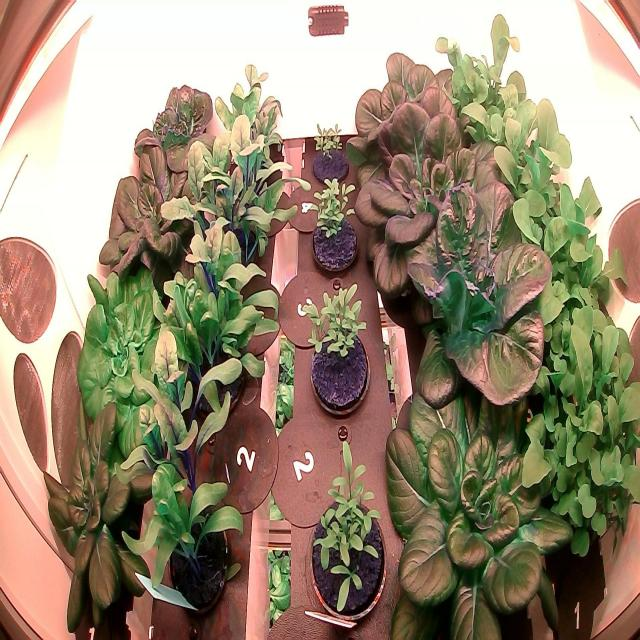Ready: (377, 353, 589, 640), (366, 161, 566, 426), (351, 94, 518, 309), (344, 33, 489, 209)
germination: (304, 114, 354, 193)
young: (34, 392, 195, 639), (74, 256, 196, 462), (89, 130, 214, 299), (126, 73, 228, 204)
